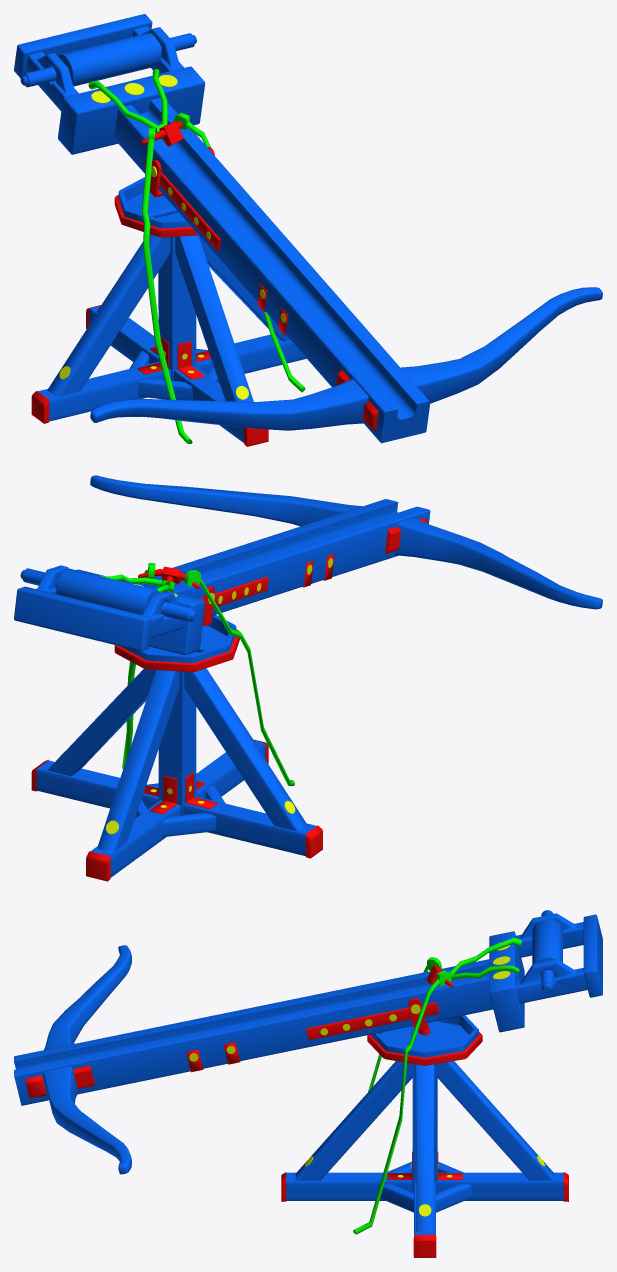
Rendered from BallisteBroken.fbx.
3 views of the same model, one above another, from view 1: azimuth 30°, elevation 25°; view 2: azimuth 150°, elevation 25°; view 3: azimuth 270°, elevation 25° (orthographic). The views are drawn at different scales.
Parts seen in each view (by area): view 1: Object002; view 2: Object002; view 3: Object002.
Part boxes in pixels (x1,y1,x2,y2): Object002: (14,14,602,446); Object002: (14,475,602,881); Object002: (14,910,602,1257).
Size of the model in its own units: 589 by 321 by 662.
